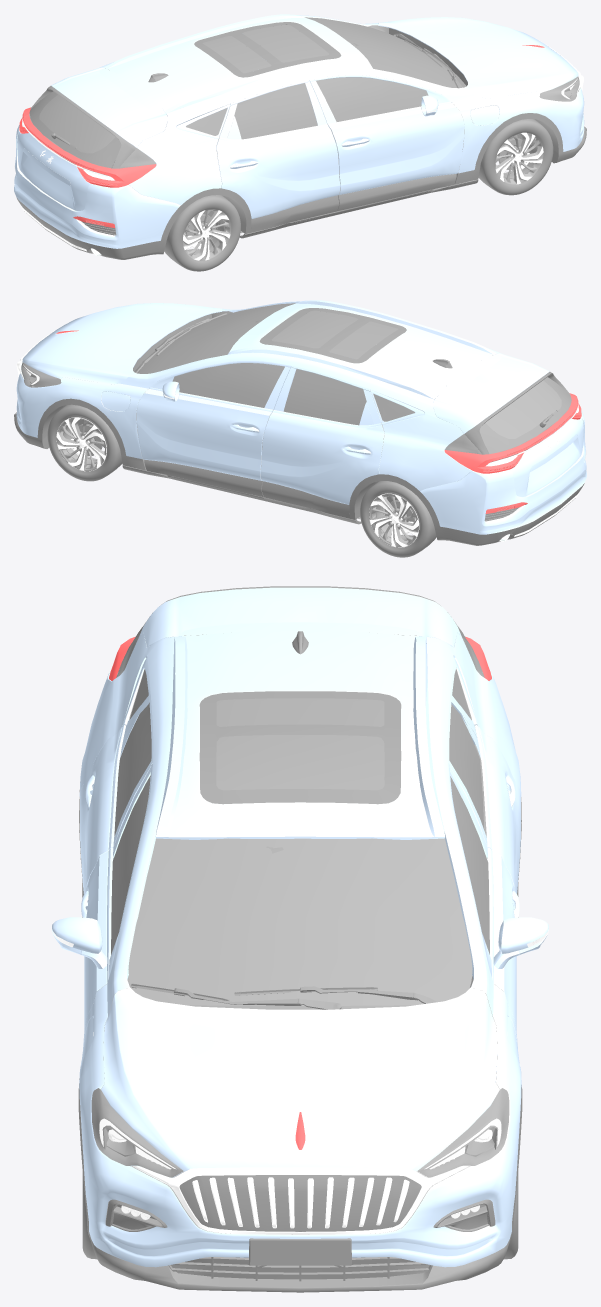
The model's file is Hongqi.glb.
3 views of the same model, one above another, from view 1: azimuth 30°, elevation 25°; view 2: azimuth 150°, elevation 25°; view 3: azimuth 270°, elevation 25° (orthographic). The views are drawn at different scales.
Parts seen in each view (by area): view 1: Hongqi_1, Hongqi_2, Hongqi_6, Object002, Object007, Hongqi_wheelFR, Hongqi_wheelBR, Hongqi_brakeLightsOFF, Hongqi_11; view 2: Hongqi_1, Hongqi_2, Hongqi_6, Object006, Object008, Hongqi_wheelBL, Hongqi_wheelFL, Hongqi_brakeLightsOFF, Hongqi_11; view 3: Hongqi_1, Hongqi_2, Hongqi_6, Hongqi_11, Hongqi_7.
Boxes of the visible parts, x1=… form: Hongqi_1: x1=14, y1=14, x2=584, y2=248; Hongqi_2: x1=39, y1=17, x2=462, y2=153; Hongqi_6: x1=16, y1=22, x2=586, y2=259; Object002: x1=164, y1=195, x2=240, y2=271; Object007: x1=478, y1=119, x2=553, y2=195; Hongqi_wheelFR: x1=495, y1=132, x2=543, y2=184; Hongqi_wheelBR: x1=183, y1=209, x2=230, y2=260; Hongqi_brakeLightsOFF: x1=19, y1=107, x2=156, y2=187; Hongqi_11: x1=21, y1=40, x2=583, y2=251; Hongqi_1: x1=16, y1=300, x2=586, y2=534; Hongqi_2: x1=138, y1=303, x2=561, y2=438; Hongqi_6: x1=14, y1=308, x2=584, y2=545; Object006: x1=360, y1=481, x2=436, y2=557; Object008: x1=47, y1=404, x2=122, y2=481; Hongqi_wheelBL: x1=369, y1=493, x2=419, y2=547; Hongqi_wheelFL: x1=56, y1=417, x2=106, y2=471; Hongqi_brakeLightsOFF: x1=444, y1=393, x2=581, y2=473; Hongqi_11: x1=16, y1=323, x2=579, y2=536; Hongqi_1: x1=52, y1=587, x2=548, y2=1267; Hongqi_2: x1=111, y1=669, x2=489, y2=1005; Hongqi_6: x1=78, y1=586, x2=522, y2=1292; Hongqi_11: x1=53, y1=931, x2=547, y2=1234; Hongqi_7: x1=99, y1=1118, x2=501, y2=1219.
Bounding box in the file's own units: 5.09 × 1.49 × 2.1.
